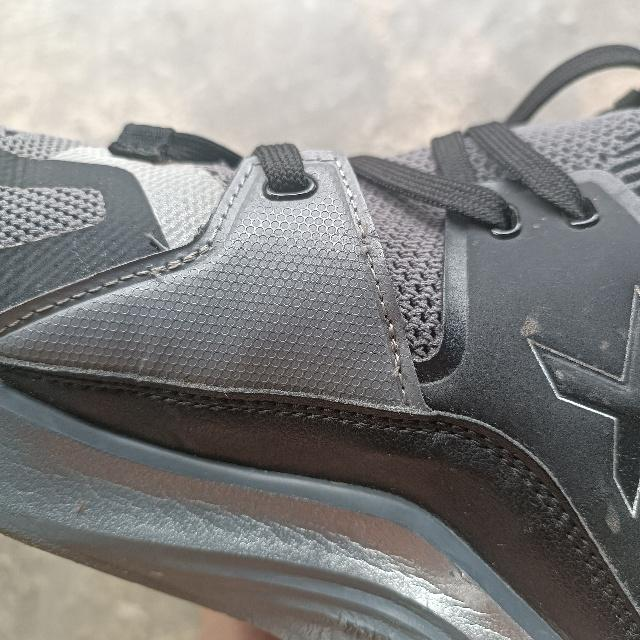broken: (353, 221, 378, 269)
